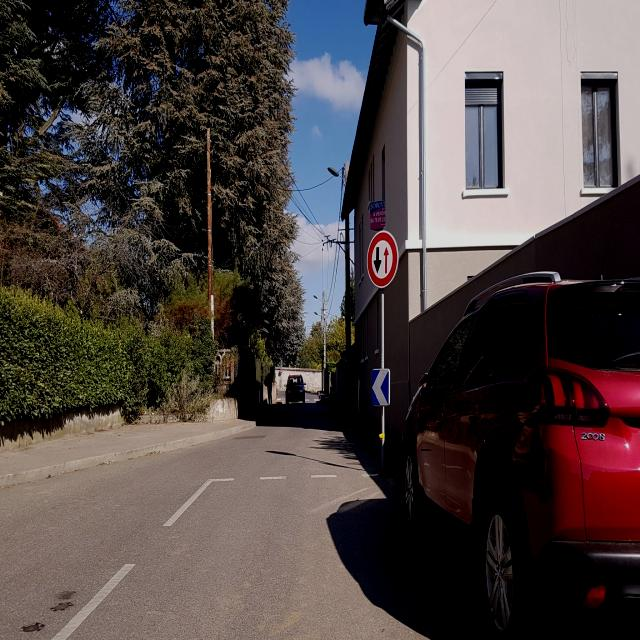car: (400, 270, 640, 638), (285, 372, 306, 406)
